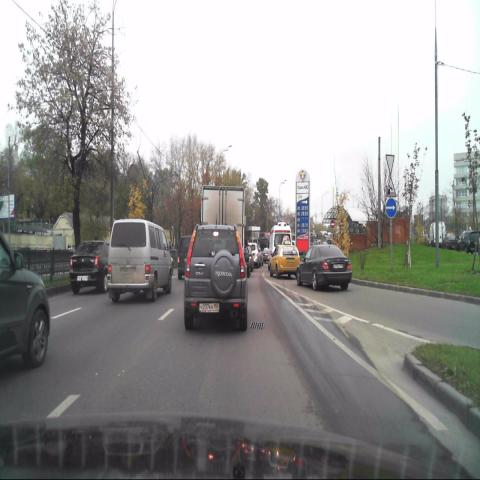1_10: (385, 177, 396, 197)
2_4: (385, 153, 395, 177)
4_1_2_1: (385, 196, 397, 219)
